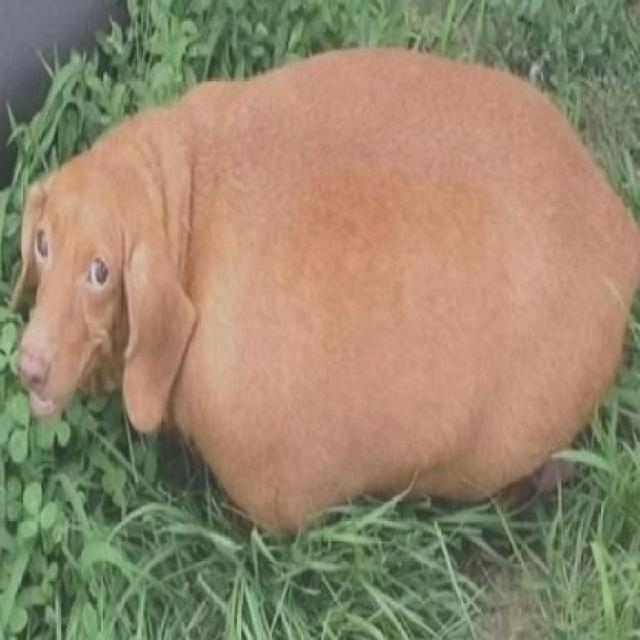Dog: (4, 43, 638, 548)
